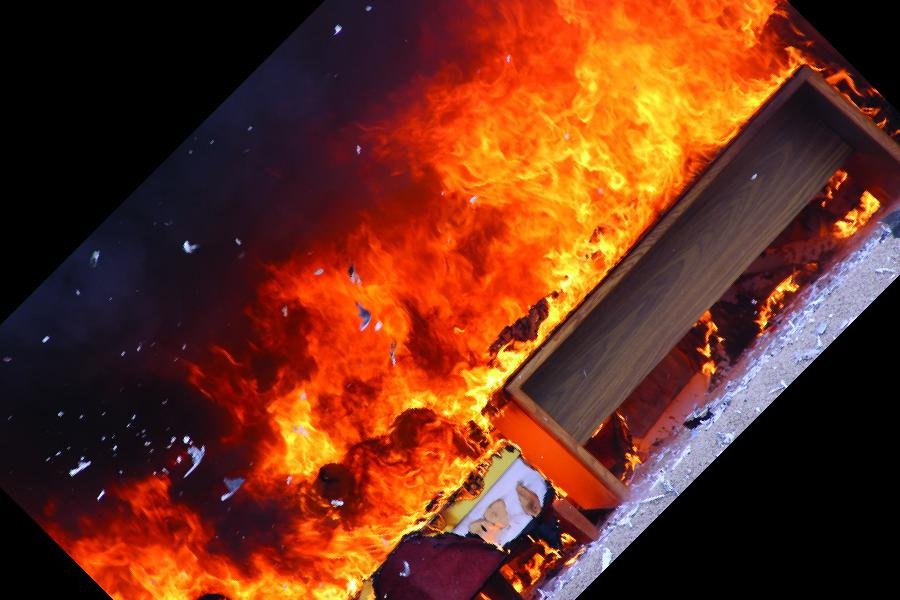fire: (83, 5, 803, 587)
